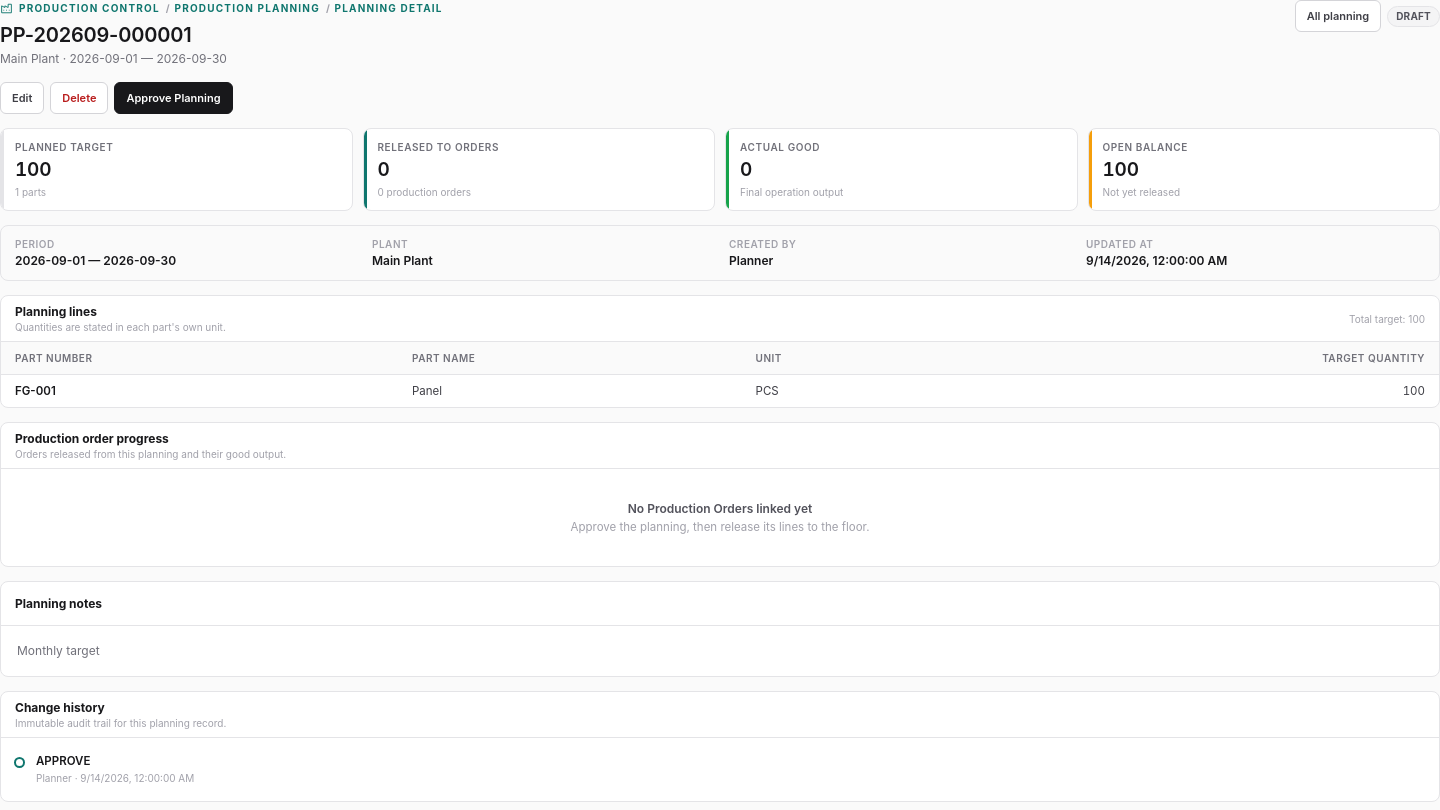
Test case: stays on detail after approval and makes order creation available
Click the button "Approve Planning" at (173, 98), box [114,82,232,114]
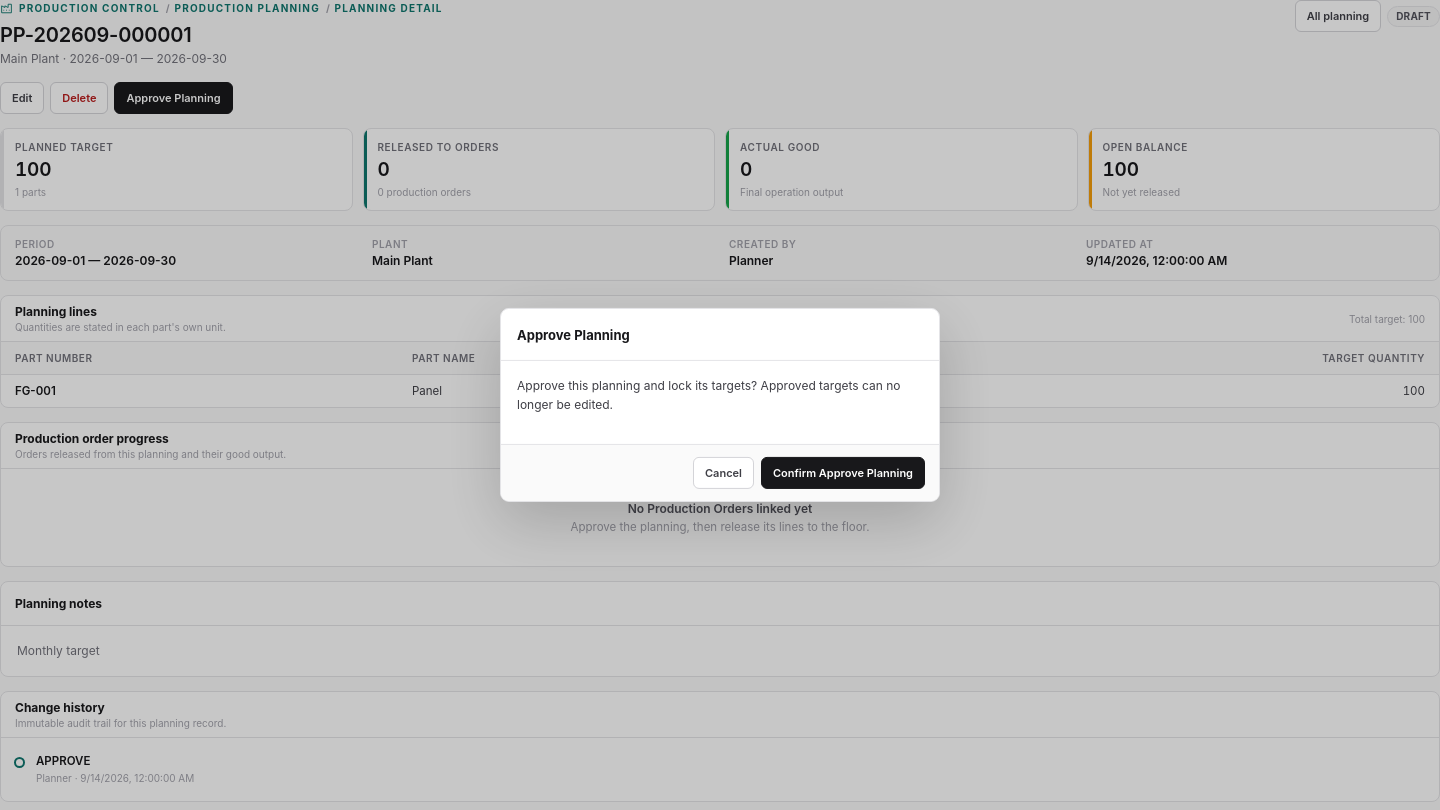
Click the button "Confirm Approve Planning" at (843, 473), box [761,457,925,489]
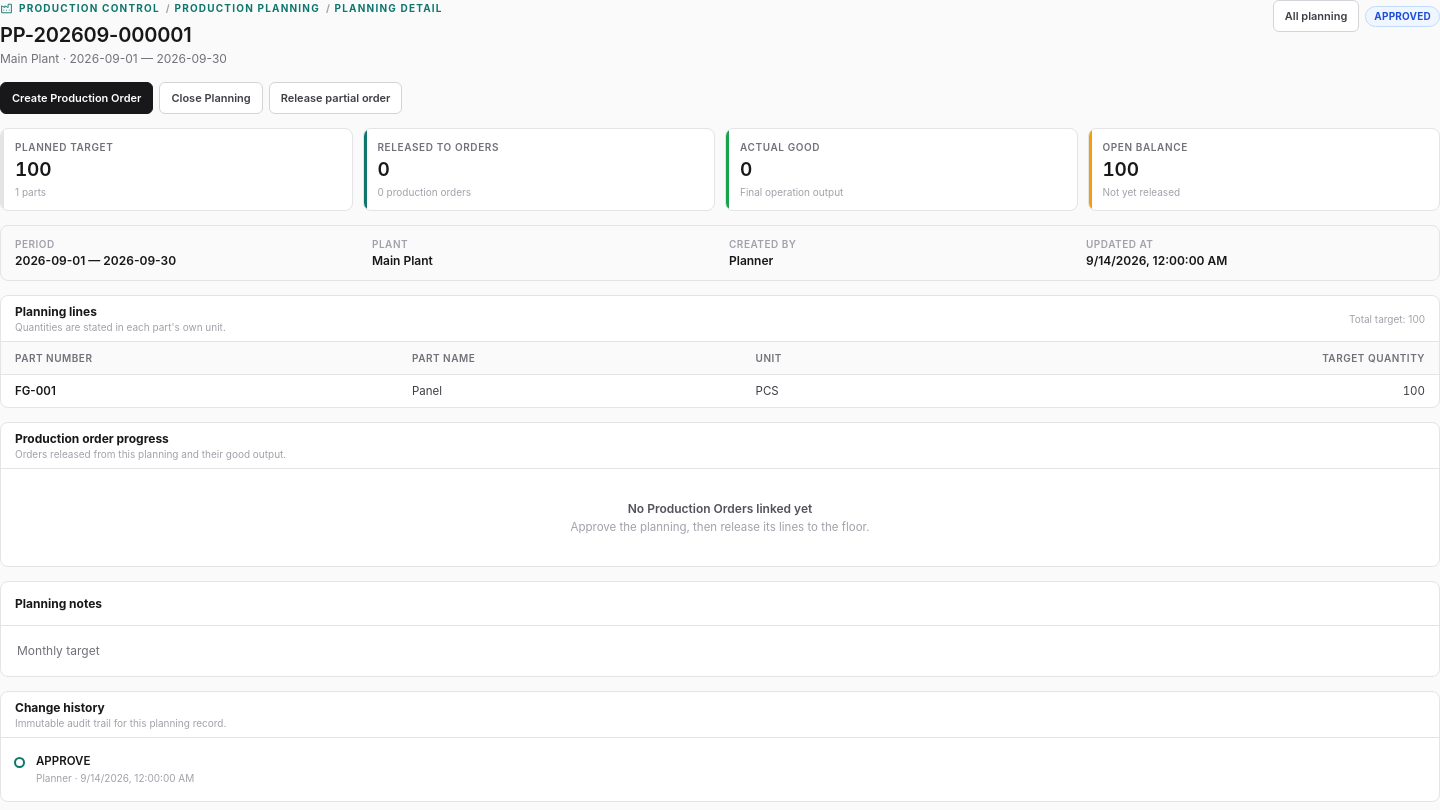
Check: the button "Create Production Order" is shown, box [0,82,153,114]
